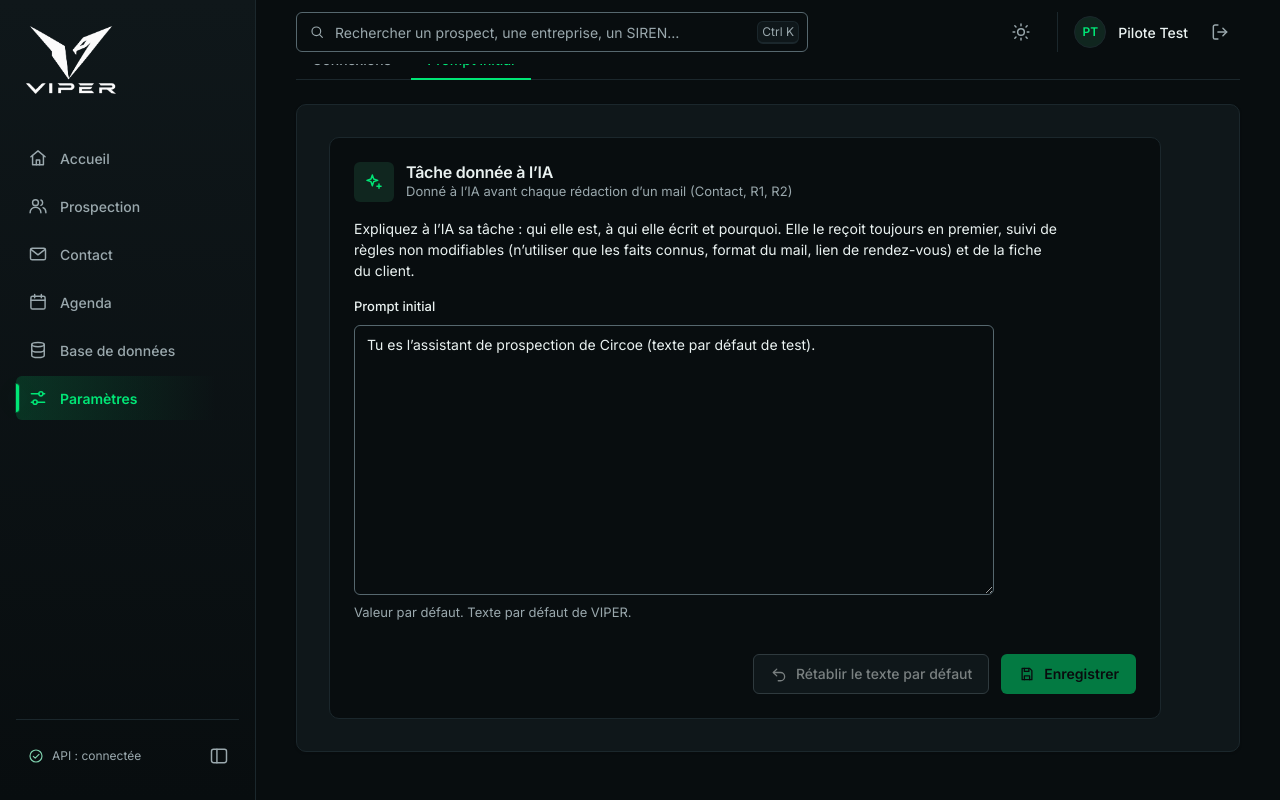
Test case: Paramètres › Prompt initial › saves an edited brief, then goes back to the built-in one
(page scrolled)
Replace the text in the text box labelled "Prompt initial" with "Tu écris pour Circoe." at (674, 460), box top-left (354, 324), bottom-right (994, 594)
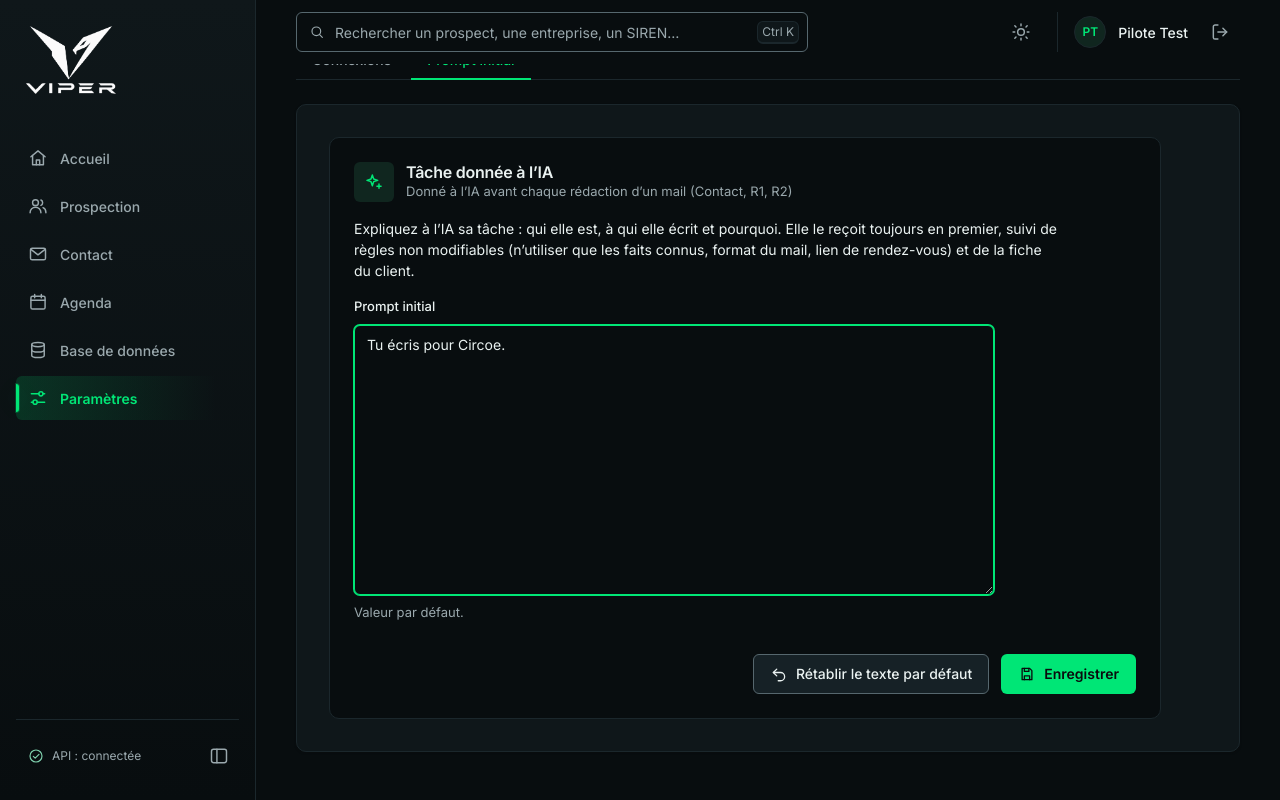
Click the button "Enregistrer" at (1069, 674), box top-left (1001, 654), bottom-right (1136, 694)
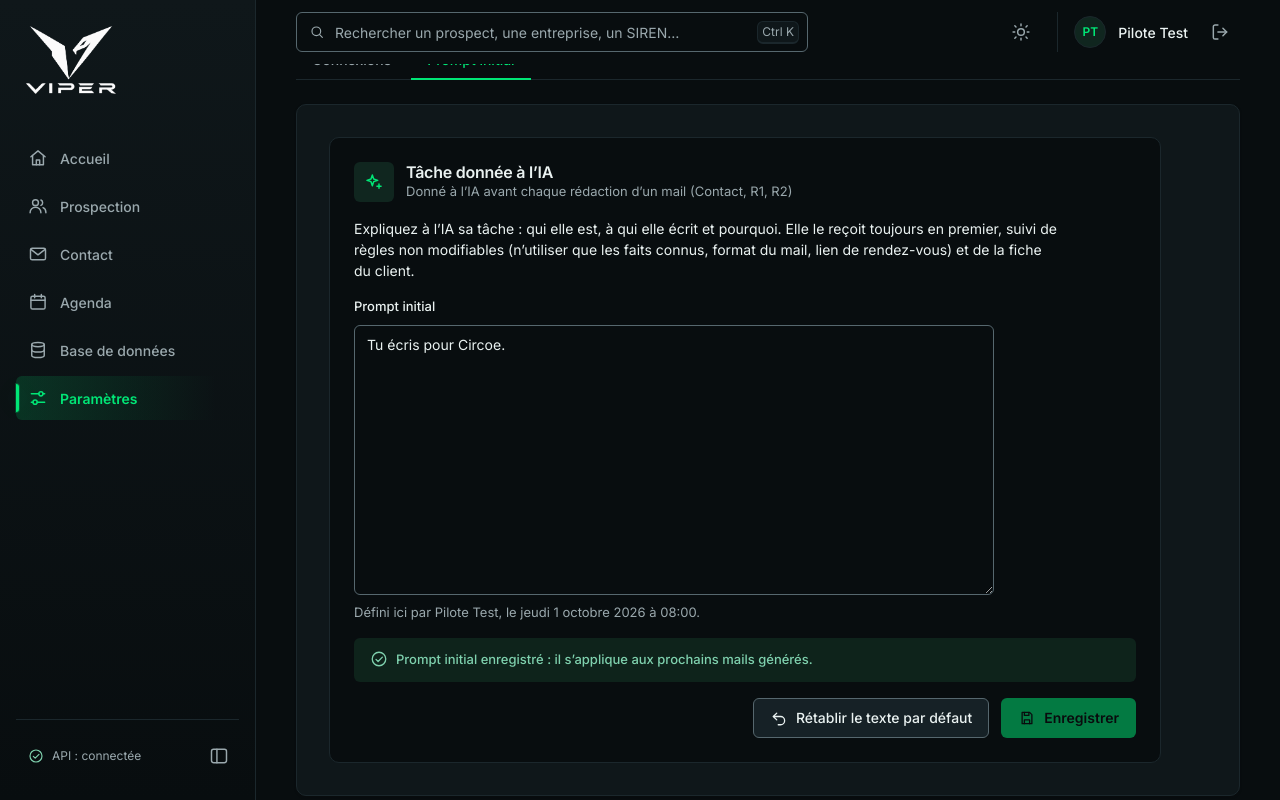
expect the text "Prompt initial enregistré" is shown: met, box top-left (396, 651), bottom-right (813, 667)
Click the button "Rétablir le texte par défaut" at (871, 718), box top-left (753, 698), bottom-right (989, 738)
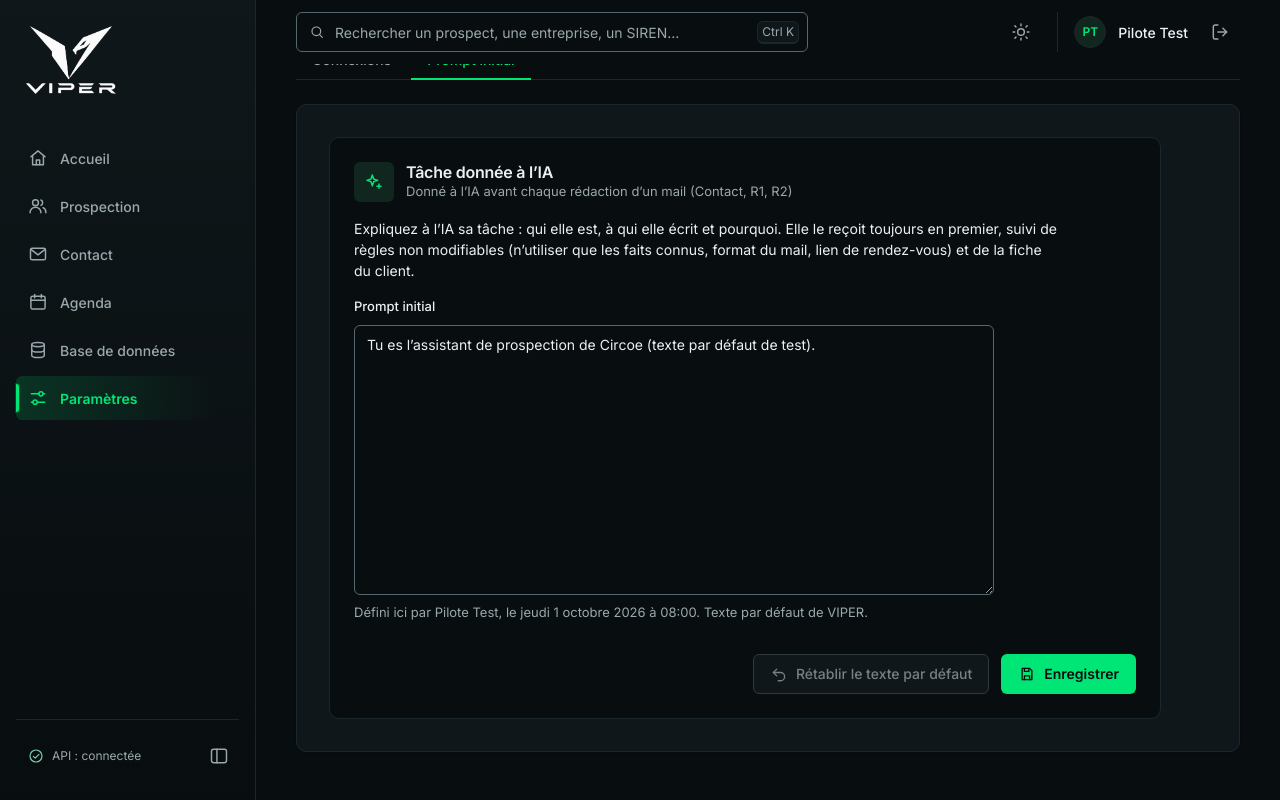
expect the text box labelled "Prompt initial" holds "Tu es l’assistant de prospection de Circoe (texte par défaut de test).": met, box top-left (354, 324), bottom-right (994, 594)
Click the button "Enregistrer" at (1069, 674), box top-left (1001, 654), bottom-right (1136, 694)
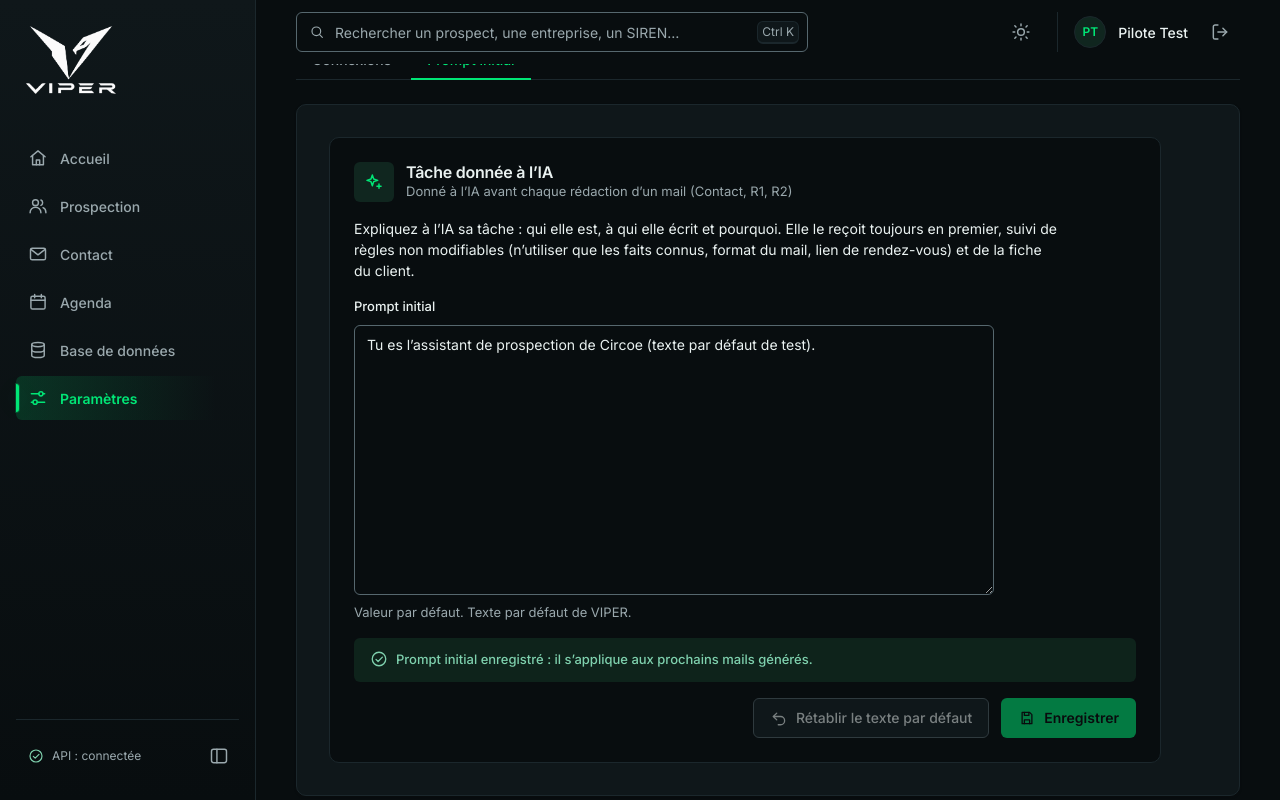
expect the text "Valeur par défaut. Texte par défaut de VIPER." is shown: met, box top-left (354, 604), bottom-right (632, 620)
